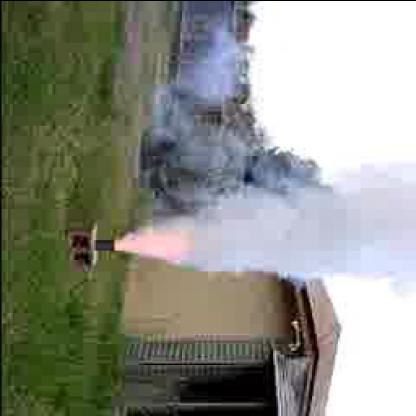Smoke: (127, 177, 415, 279)
